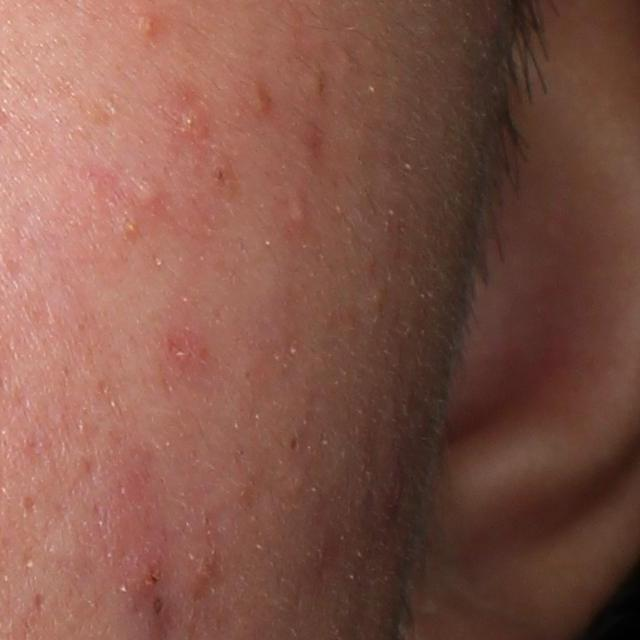comedo: (287, 200, 313, 231), (290, 434, 304, 458)
papule: (121, 543, 173, 600)
